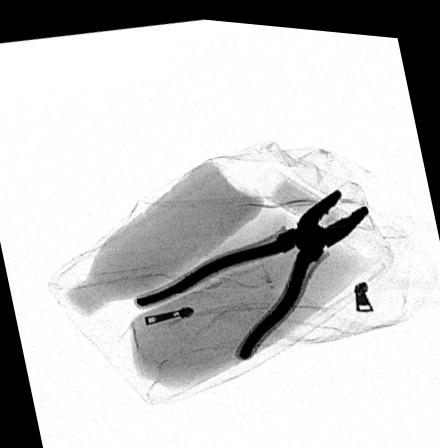Pliers: (131, 179, 370, 354)
